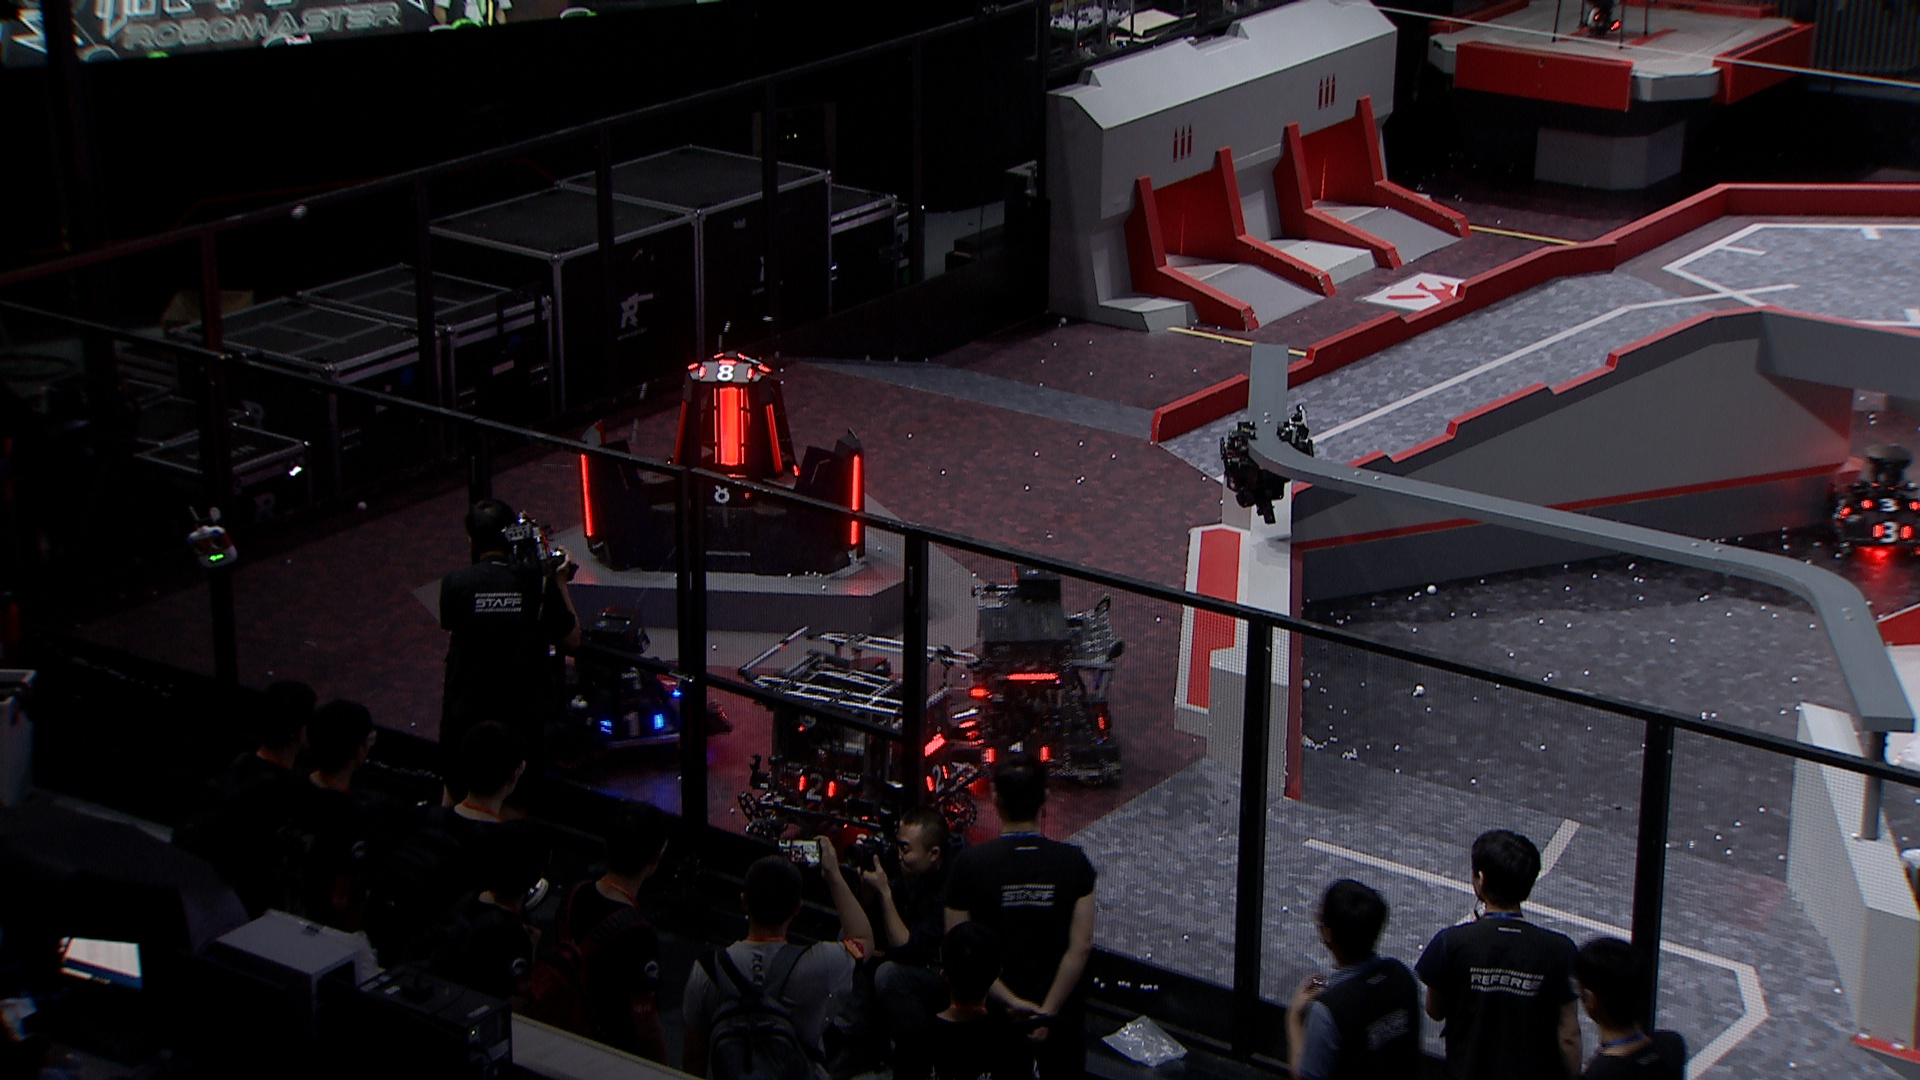armor: (711, 386, 754, 469), (603, 711, 669, 740), (765, 401, 789, 476), (981, 742, 1051, 767), (576, 452, 596, 538), (851, 454, 868, 547), (667, 401, 690, 469), (794, 774, 841, 804), (694, 363, 757, 385), (1866, 520, 1915, 547), (702, 481, 756, 505), (1859, 495, 1920, 516), (920, 761, 953, 793), (949, 702, 981, 731), (654, 674, 683, 698), (1830, 500, 1851, 524)
base: (570, 353, 880, 579)
car: (736, 621, 988, 855), (924, 560, 1135, 799), (527, 605, 721, 775), (1821, 439, 1920, 567)
watcher: (1218, 404, 1315, 527)
